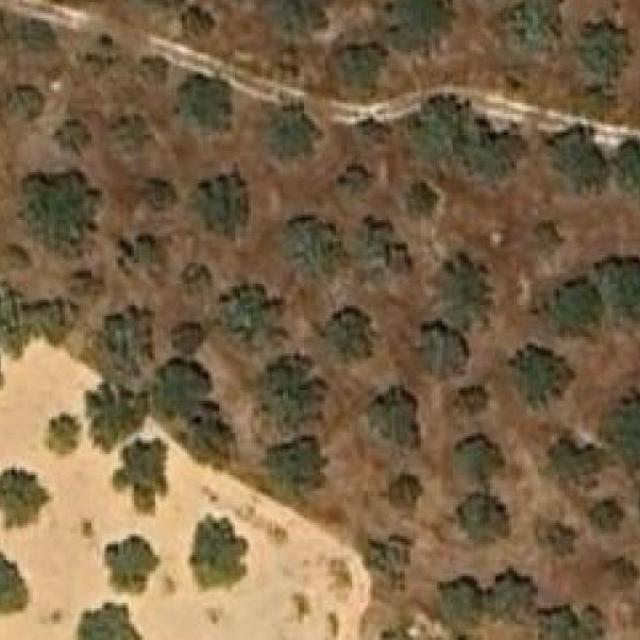Tree: (419, 100, 518, 183), (20, 170, 100, 250), (0, 289, 79, 356), (256, 436, 329, 494), (190, 516, 247, 590), (426, 259, 494, 321), (214, 287, 278, 351), (113, 440, 166, 513), (102, 534, 161, 598), (288, 220, 341, 289), (500, 0, 568, 53), (84, 384, 140, 448), (0, 464, 51, 534), (251, 106, 312, 163), (389, 0, 458, 50), (262, 358, 320, 417), (575, 23, 632, 82), (315, 310, 373, 367), (546, 135, 605, 191), (538, 436, 600, 489), (100, 307, 153, 369), (419, 319, 467, 383), (0, 528, 28, 632), (180, 74, 232, 128), (190, 181, 240, 237), (73, 603, 148, 640), (548, 282, 600, 335), (532, 603, 604, 640), (509, 344, 557, 396), (118, 230, 164, 282), (366, 537, 414, 585), (373, 388, 416, 441), (155, 362, 203, 409), (605, 255, 640, 319), (490, 566, 533, 618), (456, 436, 502, 484), (440, 582, 483, 632), (610, 396, 640, 464), (262, 0, 320, 35), (137, 172, 179, 219), (464, 497, 506, 542), (1, 82, 47, 122), (328, 48, 376, 85), (605, 546, 640, 596), (541, 515, 584, 555), (44, 415, 84, 457), (352, 111, 394, 151), (110, 114, 148, 154), (54, 117, 95, 154), (591, 493, 626, 534), (169, 310, 206, 348), (384, 470, 419, 510), (180, 2, 214, 43), (22, 16, 59, 53), (614, 142, 640, 194), (336, 162, 373, 198), (136, 55, 177, 87), (402, 183, 442, 215), (176, 260, 208, 298), (63, 0, 107, 18), (0, 2, 15, 39), (134, 0, 187, 10), (633, 480, 640, 536)
